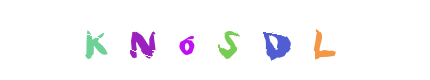6: (157, 0, 237, 80)
D: (237, 0, 317, 80)
K: (115, 0, 195, 80)
L: (281, 0, 361, 80)
N: (118, 0, 198, 80)
S: (175, 0, 255, 80)
